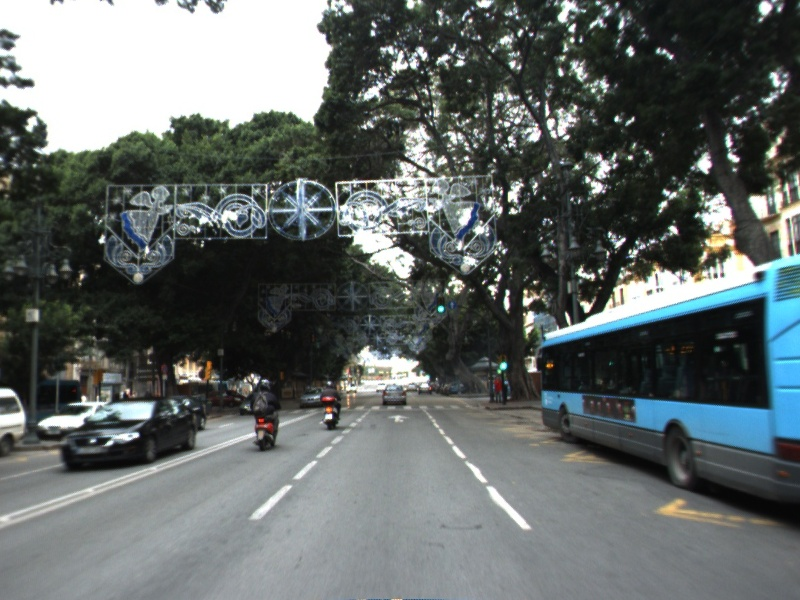STRAIGHT: (386, 412, 412, 425)
